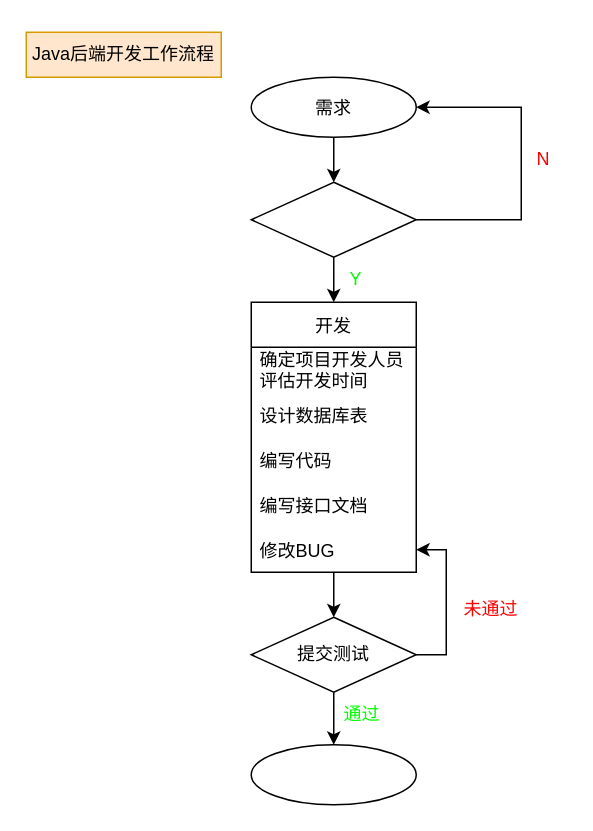
This 593x831 diagram has some shape labels left out. Each missing label, with the centre of its shape:
"结束" belongs at (x=333, y=774).
"需求分析评审" belongs at (x=333, y=219).
